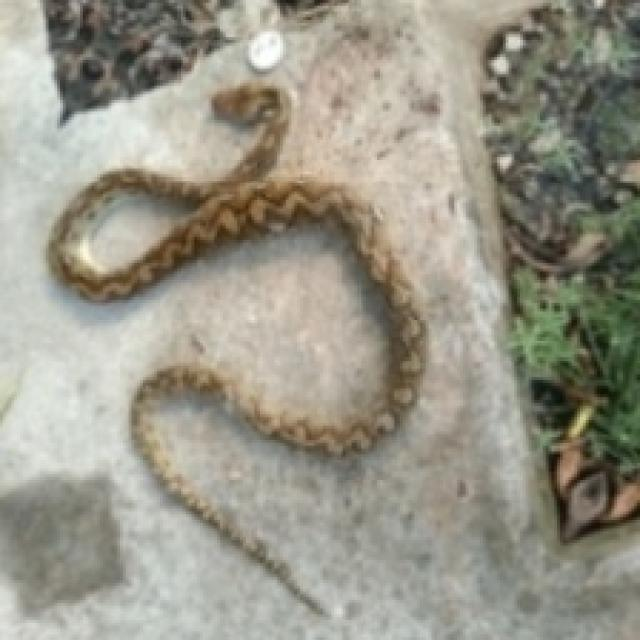reticulated python: (49, 83, 423, 611)
